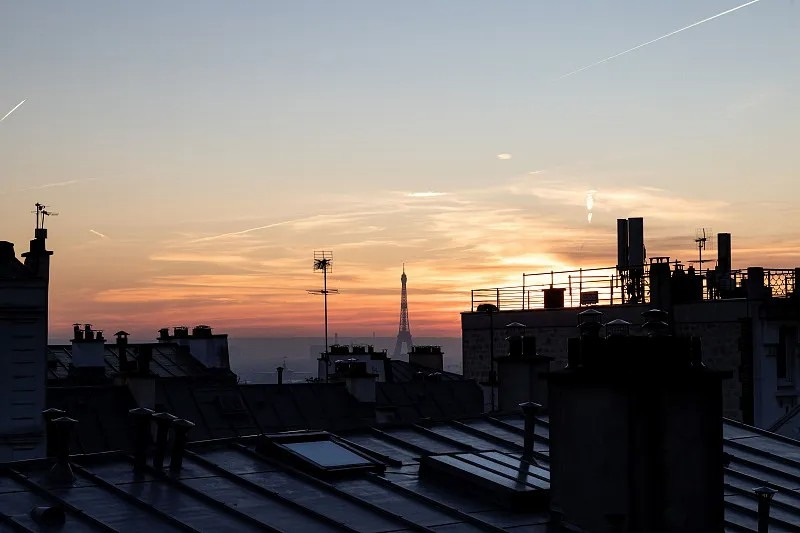Eiffel: (390, 263, 416, 363)
